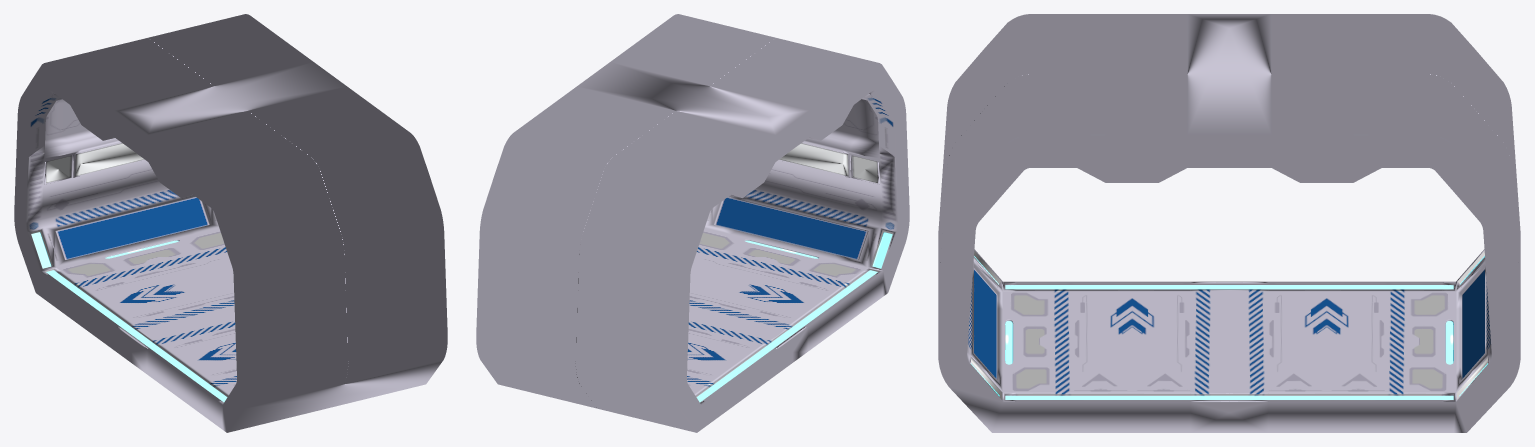
File: SM_CoridorWallLargeS.fbx
The picture shows the model from 3 angles, left to right: view 1: azimuth 30°, elevation 25°; view 2: azimuth 150°, elevation 25°; view 3: azimuth 270°, elevation 25°; orthographic projection. The views are drawn at different scales.
Parts seen in each view (by area): view 1: SM_CoridorWallLargeS_LOD0; view 2: SM_CoridorWallLargeS_LOD0; view 3: SM_CoridorWallLargeS_LOD0.
Boxes of the visible parts, x1=… form: SM_CoridorWallLargeS_LOD0: x1=14, y1=14, x2=447, y2=432; SM_CoridorWallLargeS_LOD0: x1=476, y1=14, x2=909, y2=432; SM_CoridorWallLargeS_LOD0: x1=938, y1=14, x2=1520, y2=432.
Size of the model in its own units: 358 by 731 by 413.
Materials: 1 (1 with a texture image).
